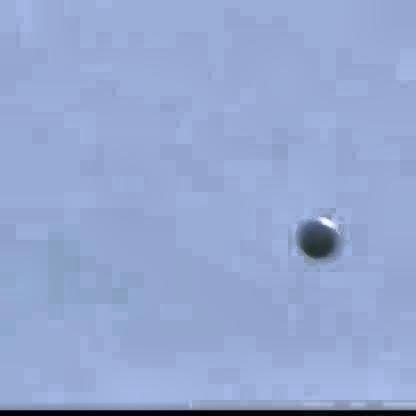golfball: (293, 217, 335, 256)
